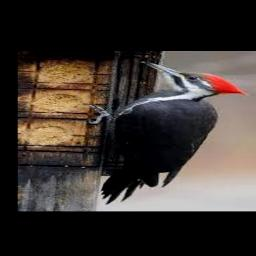Woodpecker: (86, 61, 248, 204)
